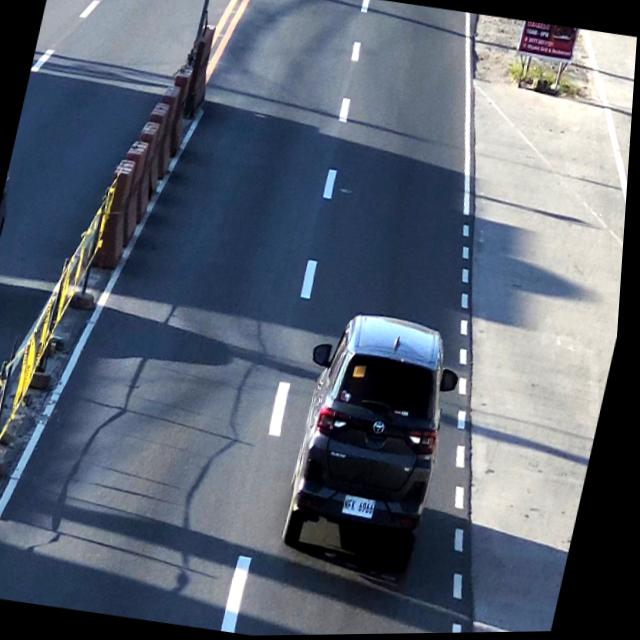Car: (286, 308, 465, 573)
License-Plate: (346, 491, 385, 521)
